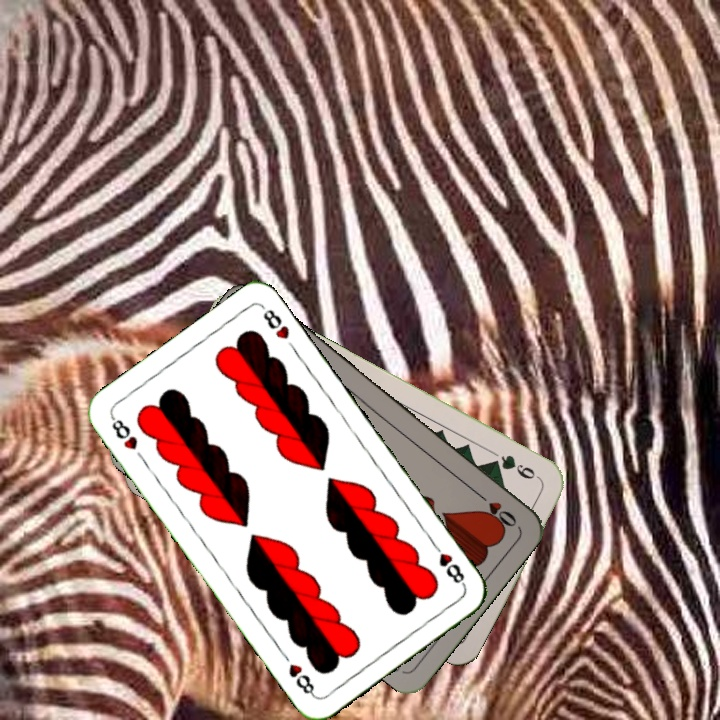G9: (487, 450, 543, 482)
H8: (427, 538, 469, 589), (107, 412, 140, 453)
HO: (470, 486, 519, 530)
